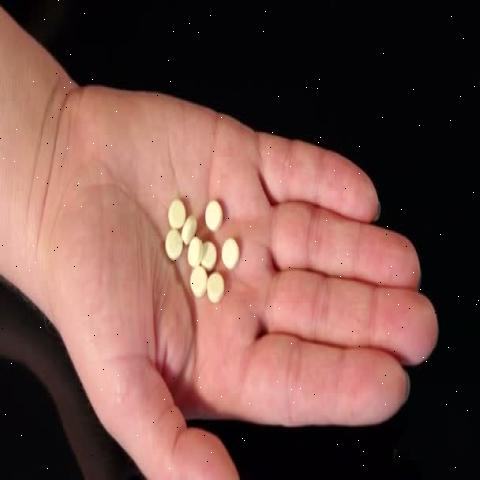Pill: (214, 225, 241, 278), (201, 180, 225, 236), (158, 224, 181, 270), (165, 187, 187, 233), (205, 270, 223, 318), (184, 269, 206, 302), (185, 238, 201, 270)
